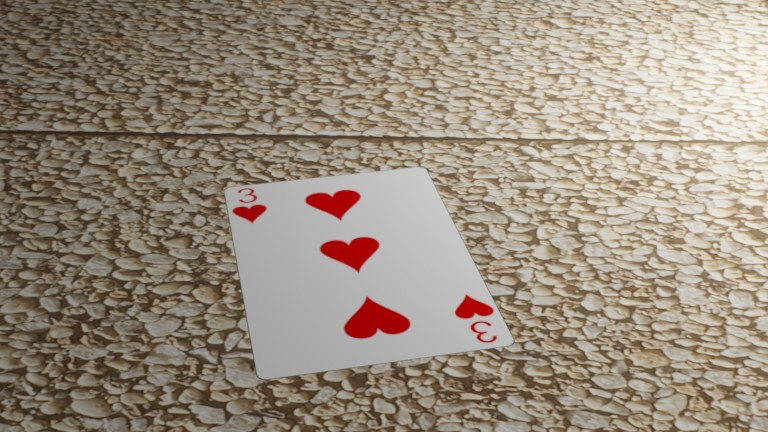3_of_hearts: (444, 292, 512, 348), (226, 186, 273, 226)
